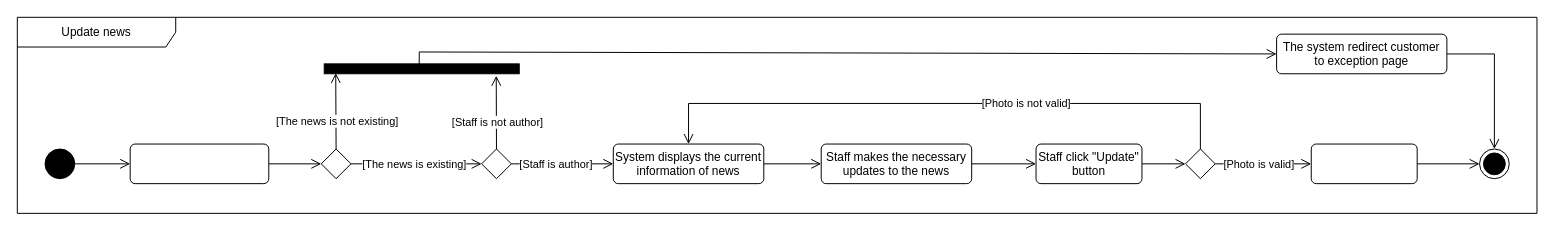
Image size: 1554x231. Some labels were removed from this diagram. The shapes that lost their labels are listed below. From the top down, each one's box as (x1, y1, x2, y2) in pixels, then its label:
(129, 143, 269, 184): Staff accesses the "Update news" screen
(1310, 143, 1417, 184): System saves news into database
